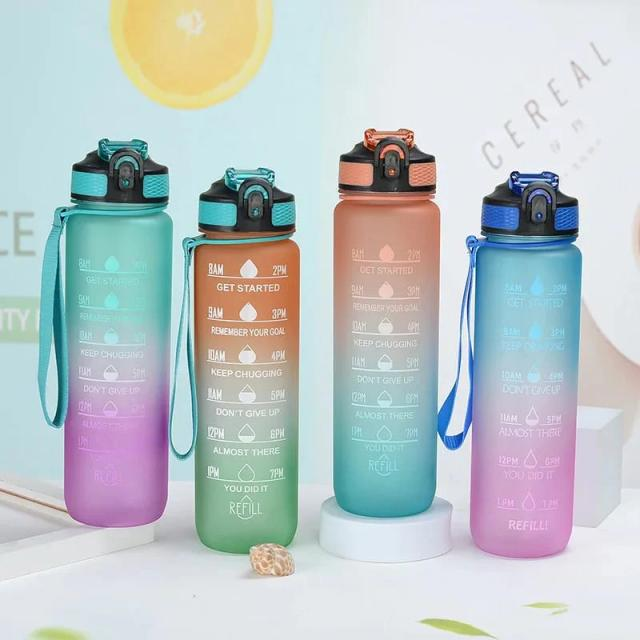Bottle: (36, 123, 170, 528), (182, 164, 304, 553), (330, 127, 442, 519), (472, 166, 579, 559)
